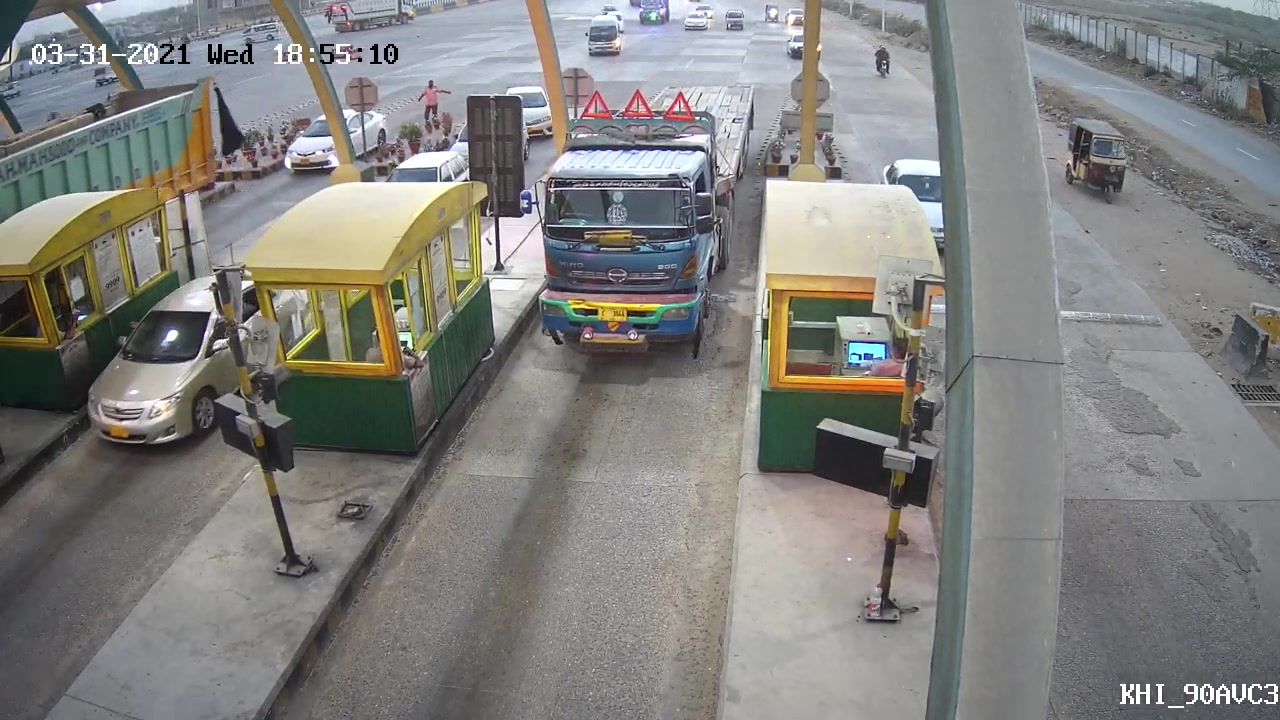F6: (522, 64, 758, 354)
